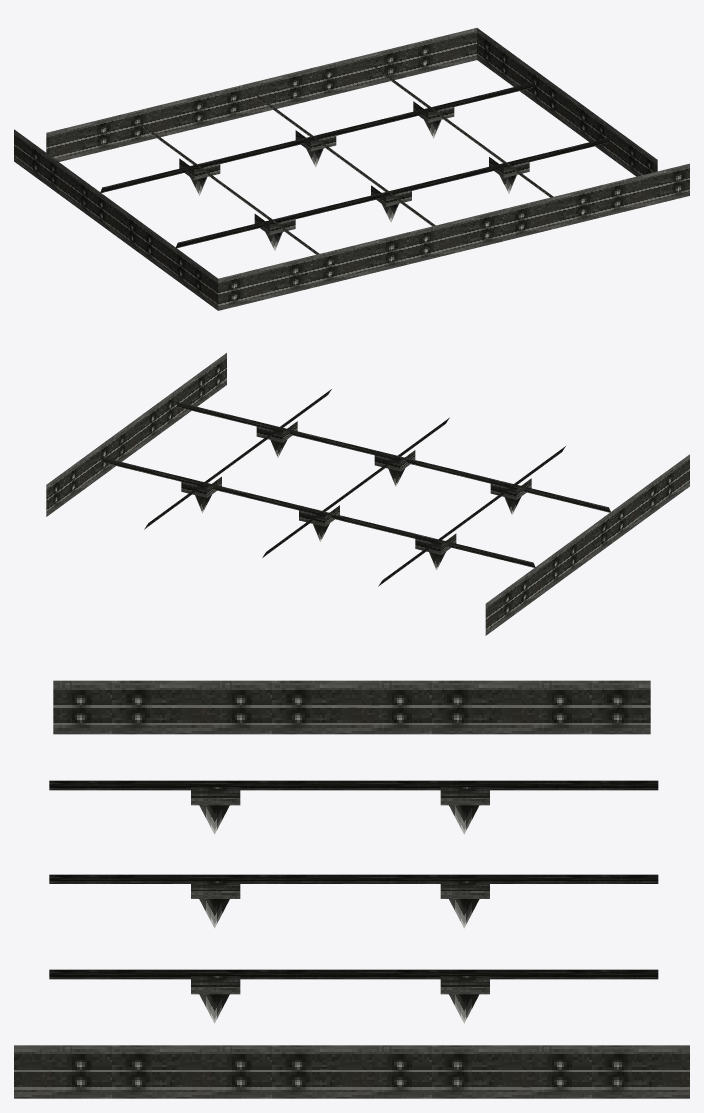
The picture shows the model from 3 angles, top to bottom: view 1: azimuth 30°, elevation 25°; view 2: azimuth 150°, elevation 25°; view 3: azimuth 270°, elevation 25°; orthographic projection. The views are drawn at different scales.
Parts seen in each view (by area): view 1: model_Object11; view 2: model_Object11; view 3: model_Object11.
Boxes of the visible parts, bbox=[...] form: model_Object11: bbox=[14, 28, 689, 310]; model_Object11: bbox=[46, 353, 689, 635]; model_Object11: bbox=[14, 680, 689, 1098].
Size of the model in its own units: 3.47 by 0.3214 by 2.6.
Materials: 1 (1 with a texture image).
